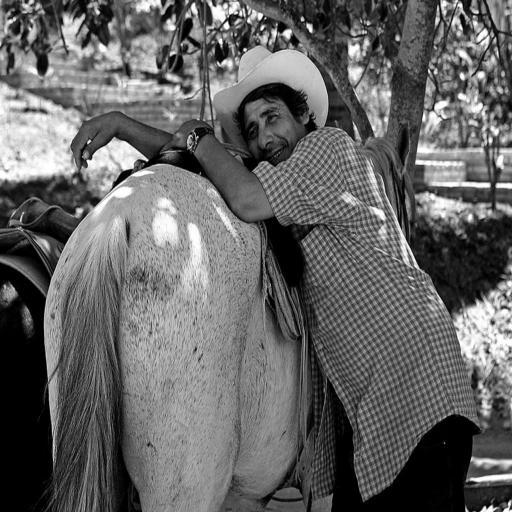Horse: (38, 118, 418, 511), (0, 168, 134, 510)
